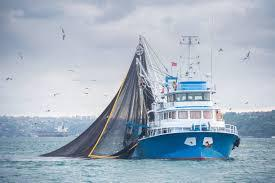fishing boat: (39, 33, 242, 163)
